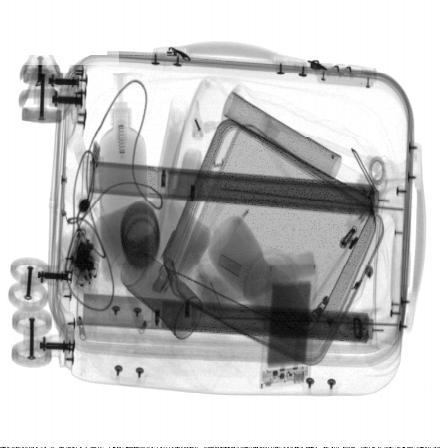Powerbank: (259, 264, 317, 388)
